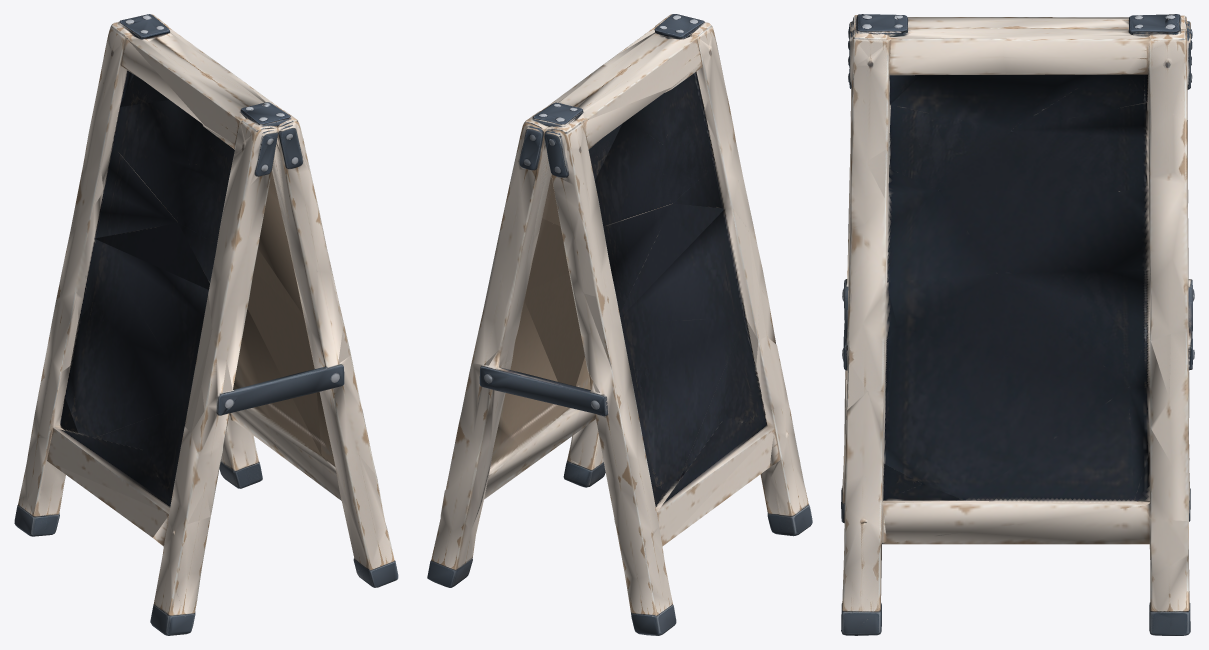
Rendered from PRP_Storefront_AFrame_Sign_A.glb.
3 views of the same model, side by side, from view 1: azimuth 30°, elevation 25°; view 2: azimuth 150°, elevation 25°; view 3: azimuth 270°, elevation 25° (orthographic). The views are drawn at different scales.
Parts seen in each view (by area): view 1: Mesh_0; view 2: Mesh_0; view 3: Mesh_0.
Boxes of the visible parts, <box> form: Mesh_0: <box>14,14,398,635</box>; Mesh_0: <box>427,14,812,635</box>; Mesh_0: <box>841,14,1194,635</box>.
Size of the model in its own units: 0.526 by 1.05 by 0.6074.
Materials: 1 (1 with a texture image).
